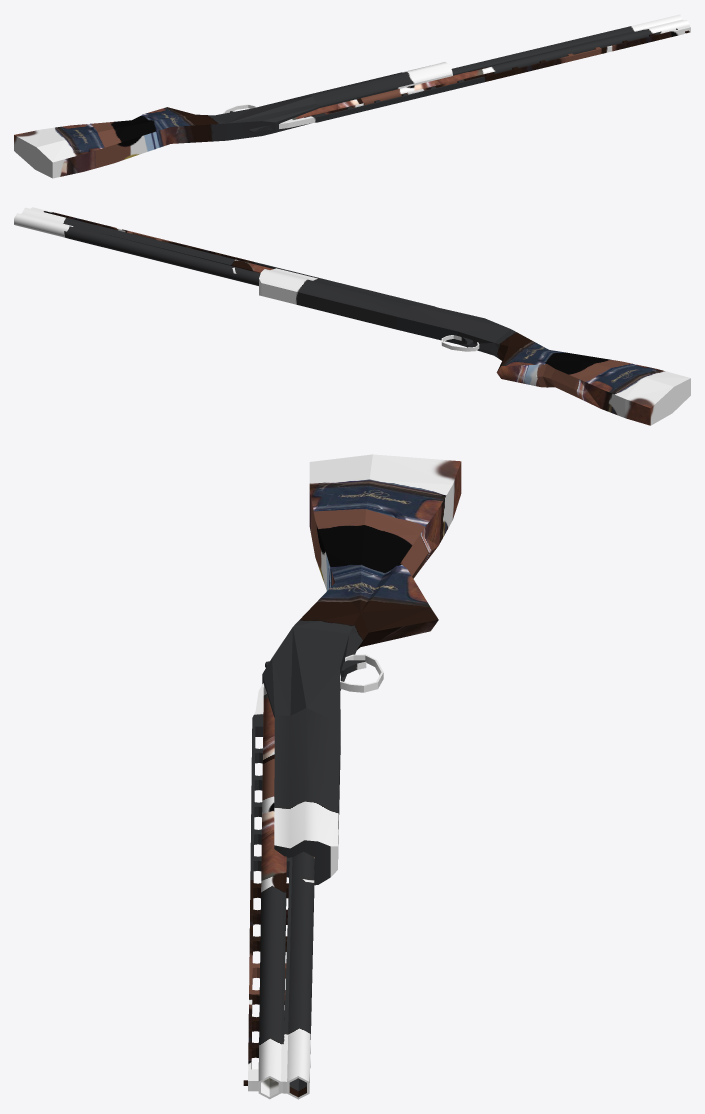
File: shotty.obj
3 views of the same model, one above another, from view 1: azimuth 30°, elevation 25°; view 2: azimuth 150°, elevation 25°; view 3: azimuth 270°, elevation 25° (orthographic). The views are drawn at different scales.
Parts seen in each view (by area): view 1: Box02; view 2: Box02; view 3: Box02.
Boxes of the visible parts, x1,y1,x2,y2 form: Box02: (14, 14, 690, 178); Box02: (14, 207, 690, 425); Box02: (243, 454, 461, 1099).
Size of the model in its own units: 10.31 by 0.4225 by 1.56.
